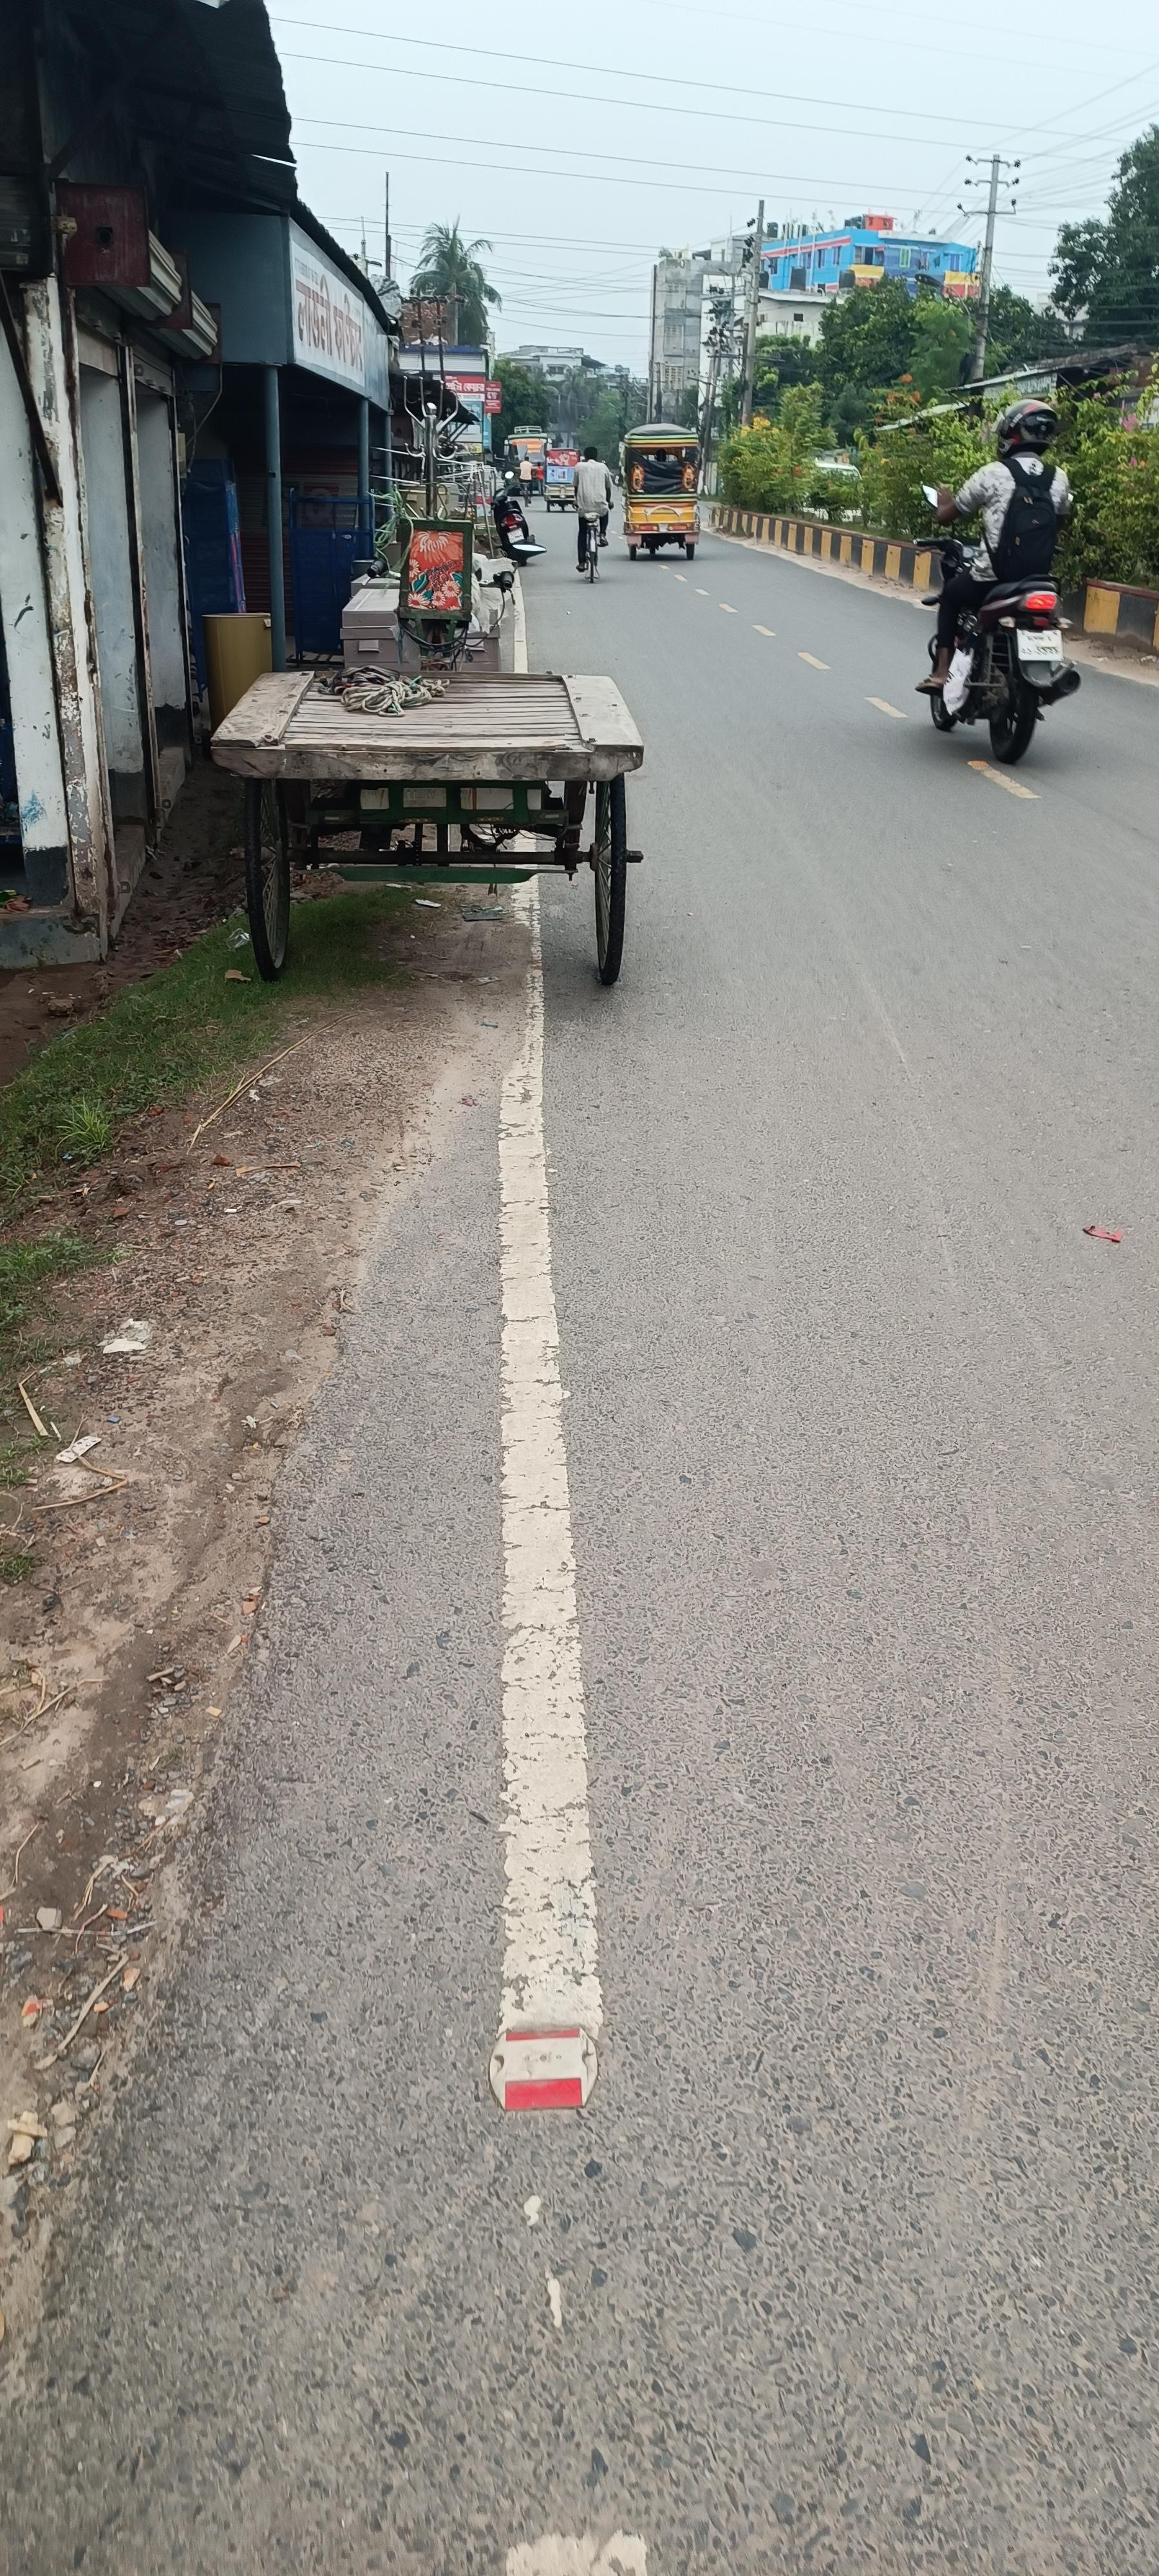Fallen-tree: (914, 534, 1082, 764)
Garbage-bin: (916, 399, 1077, 695), (571, 445, 614, 572)
Traffic-cone: (208, 662, 647, 986), (621, 422, 703, 559)
